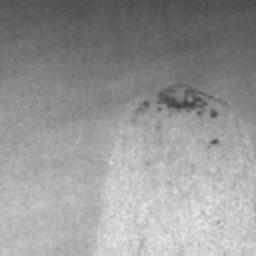Iron sheet ash: (154, 83, 212, 110), (210, 108, 218, 118), (210, 138, 218, 145)
